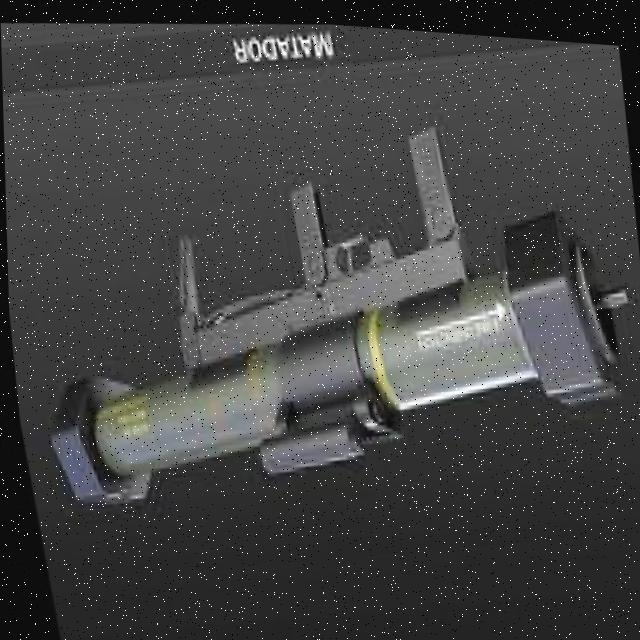rocket: (2, 65, 640, 542)
